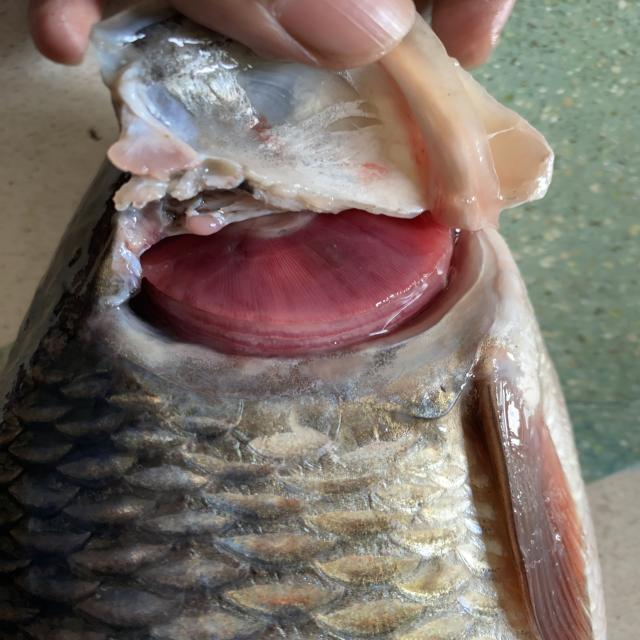Fresh: (88, 198, 492, 364)
